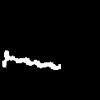half_double_crochet: (3, 51, 60, 69)
